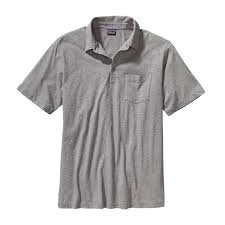S_polo shirt: (18, 17, 202, 200)
